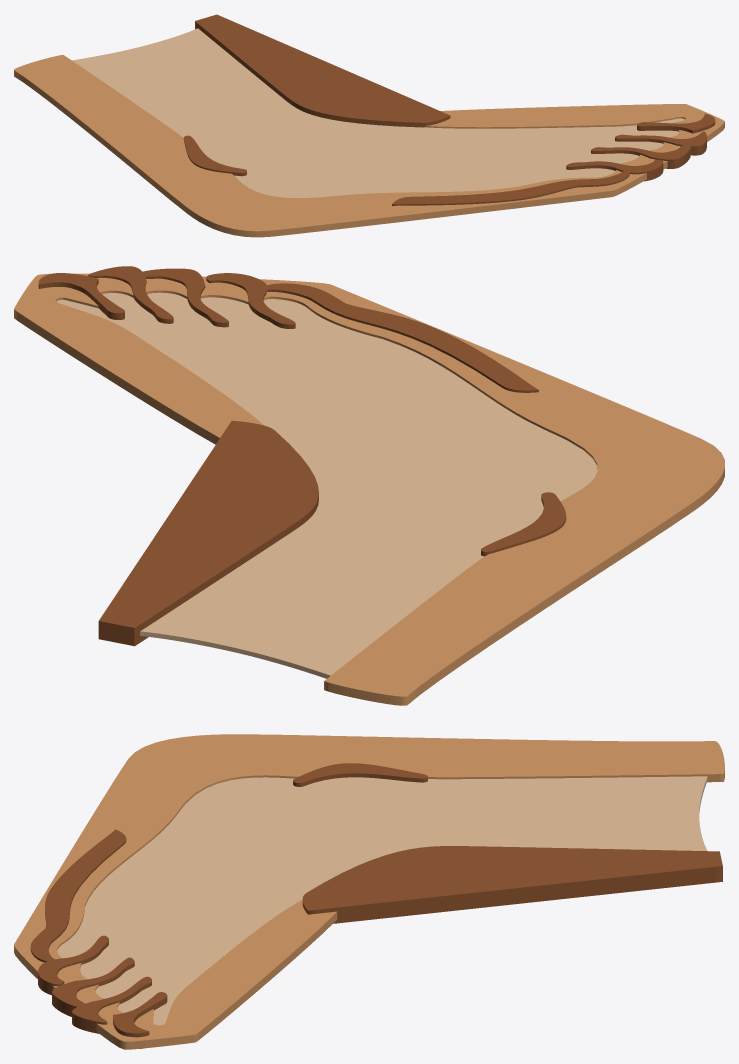
Rendered from emoji_u1f9b6_1f3fc.glb.
3 renders of one model, top to bottom at view 1: azimuth 30°, elevation 25°; view 2: azimuth 150°, elevation 25°; view 3: azimuth 270°, elevation 25°, orthographic. The views are drawn at different scales.
Visible parts, largest first — view 1: emoji_u1f9b6_1f3fc; view 2: emoji_u1f9b6_1f3fc; view 3: emoji_u1f9b6_1f3fc.
Part boxes in pixels (x1=…): emoji_u1f9b6_1f3fc: x1=14, y1=14, x2=724, y2=237; emoji_u1f9b6_1f3fc: x1=14, y1=266, x2=724, y2=705; emoji_u1f9b6_1f3fc: x1=14, y1=734, x2=724, y2=1049.
Bounding box in the file's own units: 0.0333 × 0.0008 × 0.0325.
